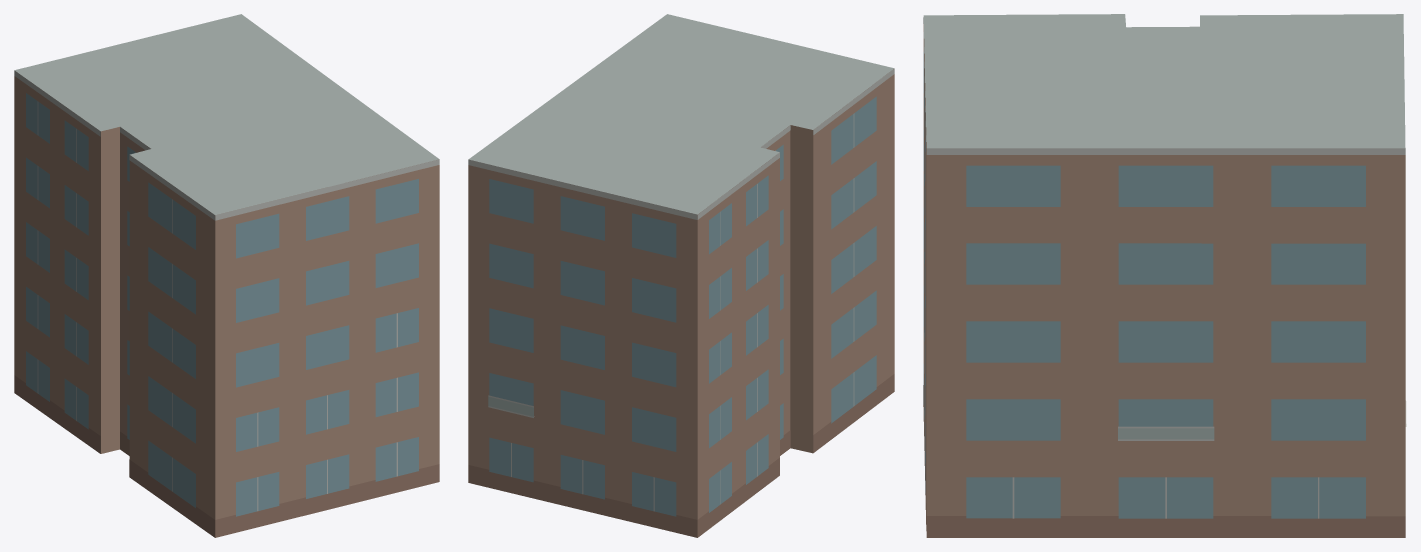
Rendered from survey-upis-32962083.glb.
3 renders of one model, left to right at view 1: azimuth 30°, elevation 25°; view 2: azimuth 150°, elevation 25°; view 3: azimuth 270°, elevation 25°, orthographic. The views are drawn at different scales.
Parts seen in each view (by area): view 1: survey-upis-32962083.tmp; view 2: survey-upis-32962083.tmp; view 3: survey-upis-32962083.tmp.
Part boxes in pixels (x1,y1,x2,y2): survey-upis-32962083.tmp: (14, 14, 439, 537); survey-upis-32962083.tmp: (468, 14, 894, 537); survey-upis-32962083.tmp: (923, 14, 1406, 537).
Size of the model in its own units: 10.54 by 14.2 by 15.96.
